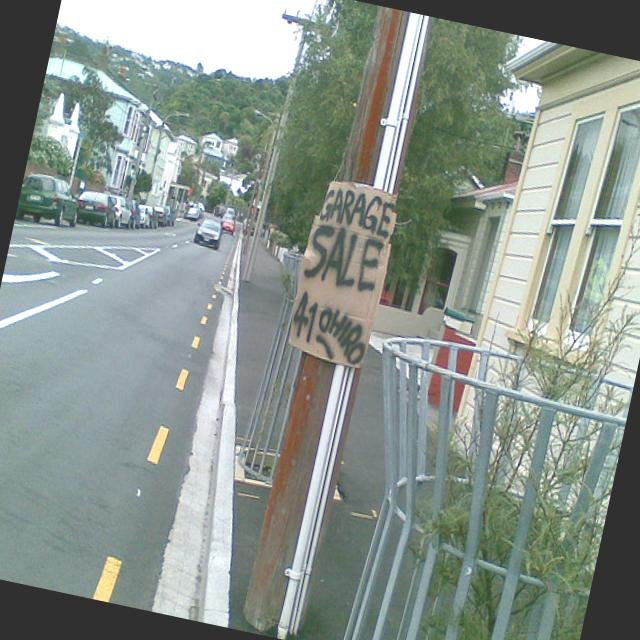Vehicle: (15, 168, 84, 232), (72, 187, 122, 231), (191, 215, 225, 251), (105, 192, 137, 230), (118, 197, 146, 230), (148, 205, 170, 228), (134, 203, 154, 228), (156, 204, 177, 226), (182, 200, 202, 222), (220, 217, 237, 236), (148, 208, 162, 230)
